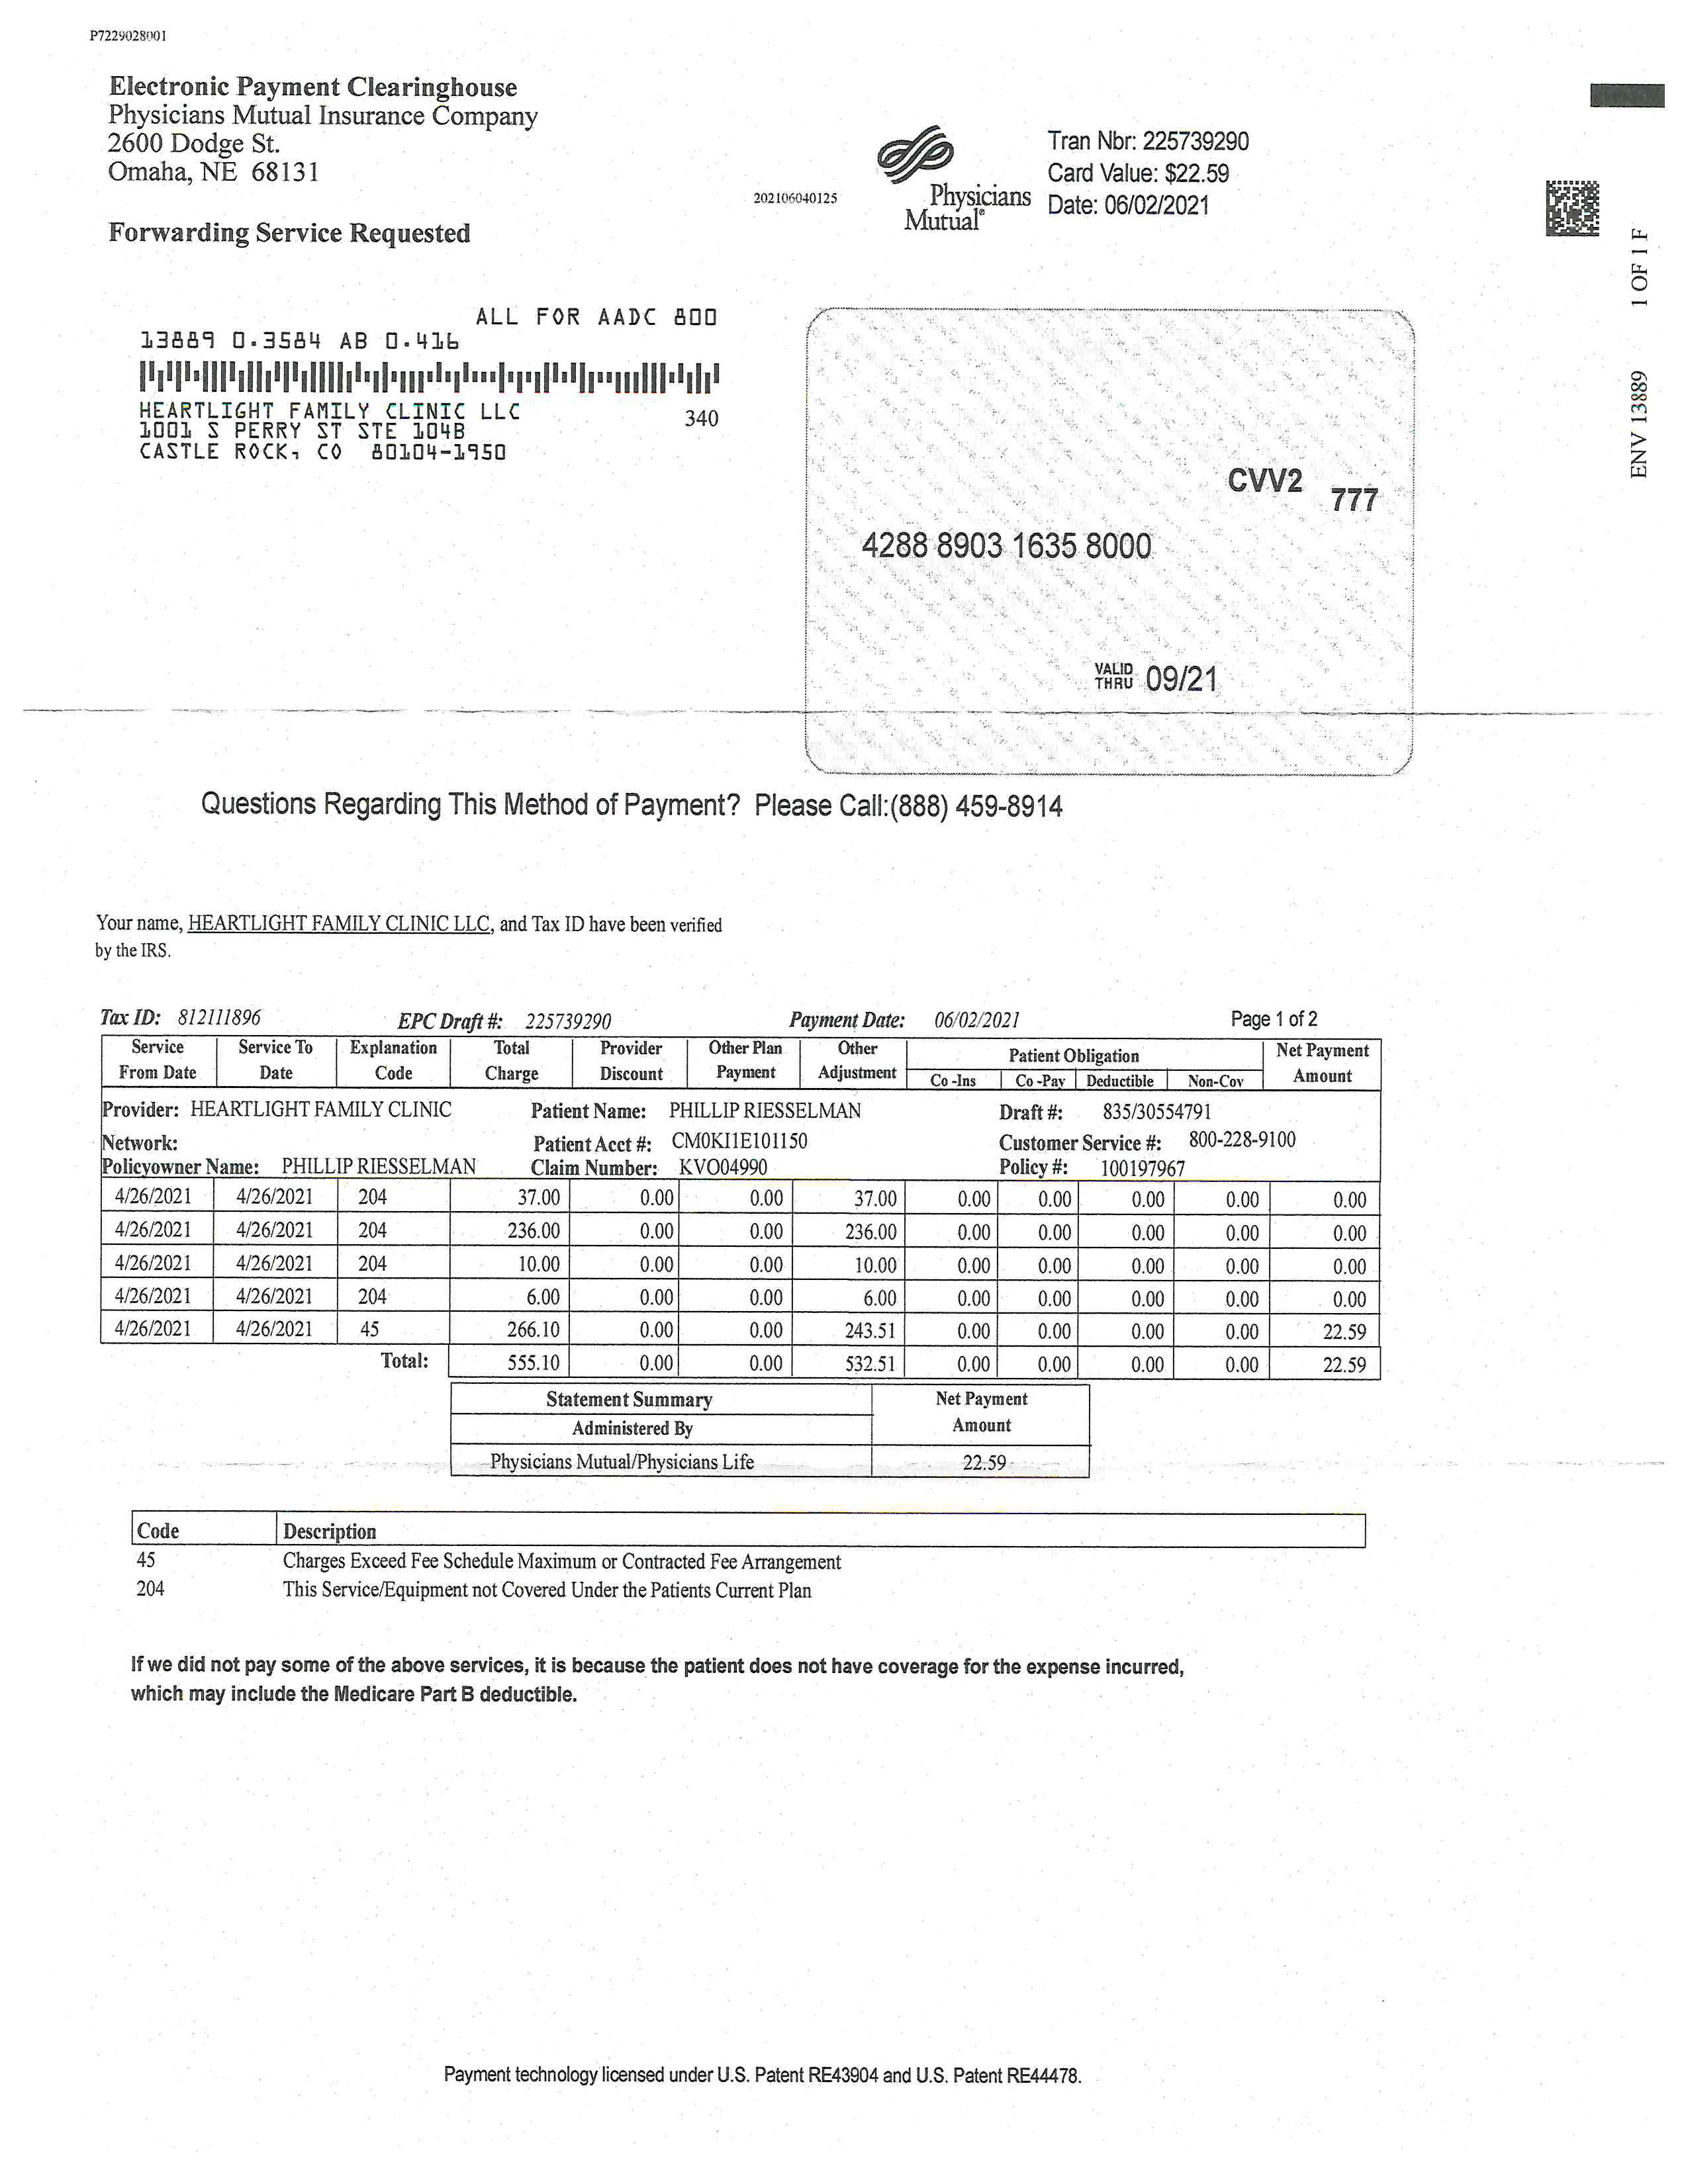data: (103, 1088, 1367, 1174)
table: (90, 984, 1401, 1390)
